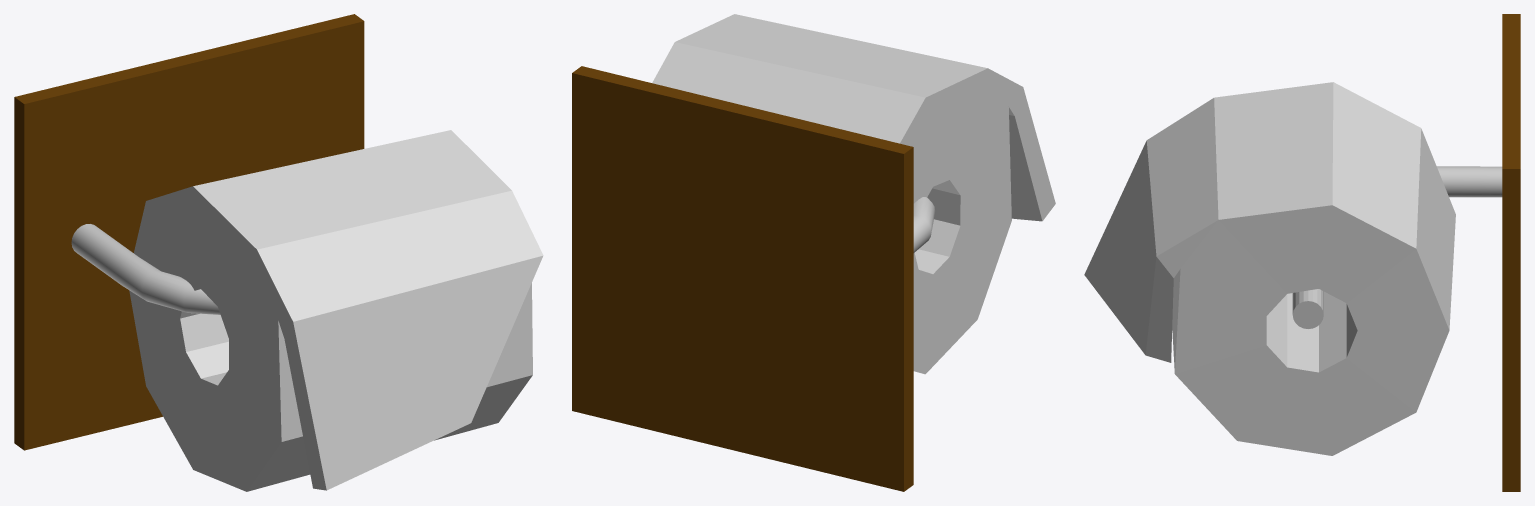
File: Toilet_Paper.fbx
The picture shows the model from 3 angles, left to right: view 1: azimuth 30°, elevation 25°; view 2: azimuth 150°, elevation 25°; view 3: azimuth 270°, elevation 25°; orthographic projection. The views are drawn at different scales.
Parts seen in each view (by area): view 1: pCube2; view 2: pCube2; view 3: pCube2.
Part boxes in pixels (left/top/right/bottom): pCube2: left=14, top=14, right=543, bottom=491; pCube2: left=572, top=14, right=1055, bottom=491; pCube2: left=1084, top=14, right=1520, bottom=491.
Bounding box in the file's own units: 0.2091 × 0.1943 × 0.2378.
